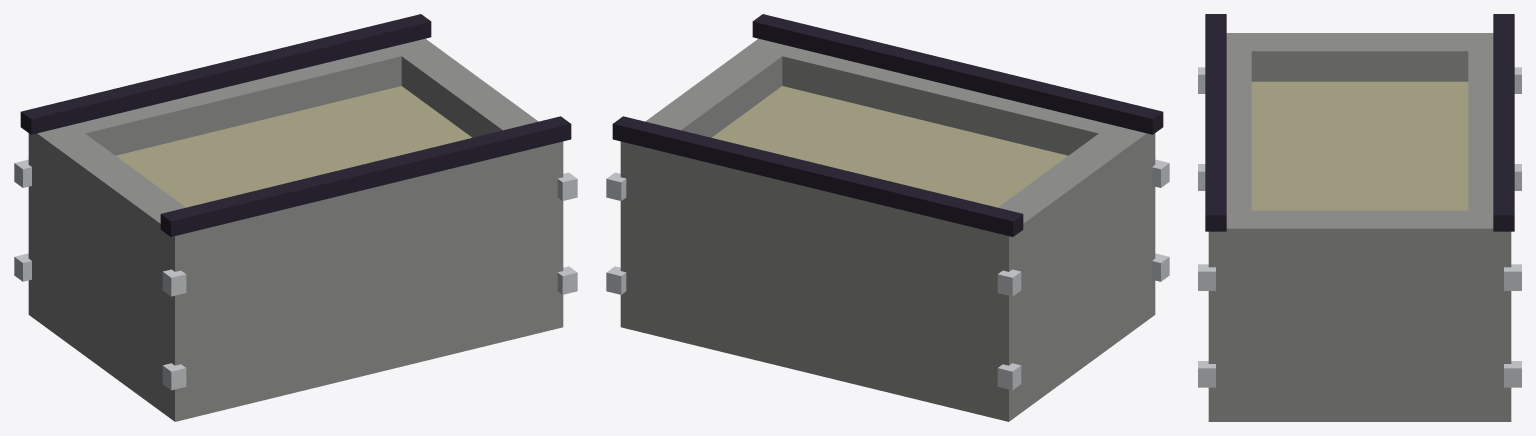
Rendered from SettlingTank.fbx.
3 renders of one model, left to right at view 1: azimuth 30°, elevation 25°; view 2: azimuth 150°, elevation 25°; view 3: azimuth 270°, elevation 25°, orthographic. The views are drawn at different scales.
Parts seen in each view (by area): view 1: ext_tank_walls, ext_tank_ends, ext_tank_lip, ext_tank_brine, ext_tank_floor, ext_tank_bands; view 2: ext_tank_walls, ext_tank_ends, ext_tank_lip, ext_tank_brine, ext_tank_floor, ext_tank_bands; view 3: ext_tank_ends, ext_tank_brine, ext_tank_walls, ext_tank_floor, ext_tank_lip, ext_tank_bands.
Boxes of the visible parts, bbox=[...] form: ext_tank_walls: bbox=[28, 38, 563, 390]; ext_tank_ends: bbox=[49, 47, 538, 374]; ext_tank_lip: bbox=[20, 14, 571, 236]; ext_tank_brine: bbox=[116, 86, 471, 207]; ext_tank_floor: bbox=[28, 284, 563, 421]; ext_tank_bands: bbox=[14, 159, 577, 390]; ext_tank_walls: bbox=[620, 38, 1155, 390]; ext_tank_ends: bbox=[645, 47, 1134, 374]; ext_tank_lip: bbox=[612, 14, 1163, 236]; ext_tank_brine: bbox=[712, 86, 1067, 207]; ext_tank_floor: bbox=[620, 284, 1155, 421]; ext_tank_bands: bbox=[606, 159, 1169, 390]; ext_tank_ends: bbox=[1251, 33, 1468, 389]; ext_tank_brine: bbox=[1251, 81, 1468, 210]; ext_tank_walls: bbox=[1208, 33, 1511, 389]; ext_tank_floor: bbox=[1208, 389, 1511, 421]; ext_tank_lip: bbox=[1205, 14, 1514, 231]; ext_tank_bands: bbox=[1198, 67, 1521, 387].
Bounding box in the file's own units: 1.36 × 0.65 × 0.91.
